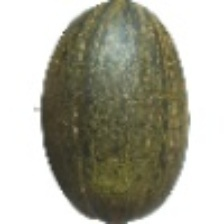honeydew: (19, 54, 180, 196)
